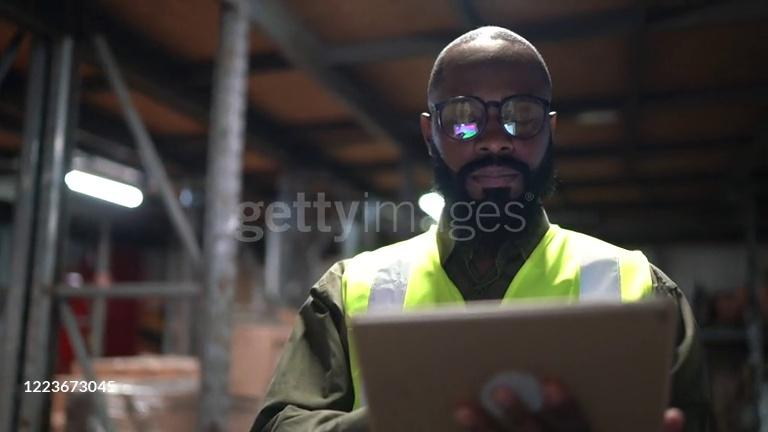person: (251, 29, 727, 432)
